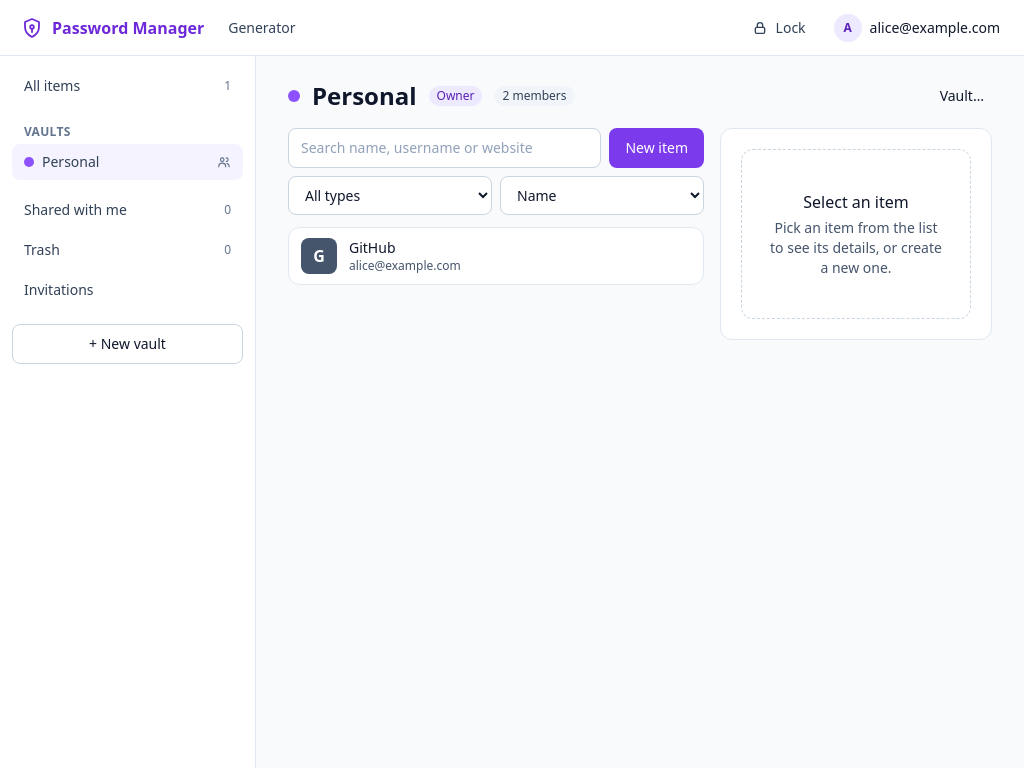
Test case: removing a member rotates the vault key › runs delete, sync, prepare, chunks, finalize, commit and sync in that order
Expected: the heading "Personal" is shown, top-left (312, 80), bottom-right (416, 112)
Click the button with aria-label "Vault menu" at coordinates (962, 96), box top-left (932, 80), bottom-right (992, 112)
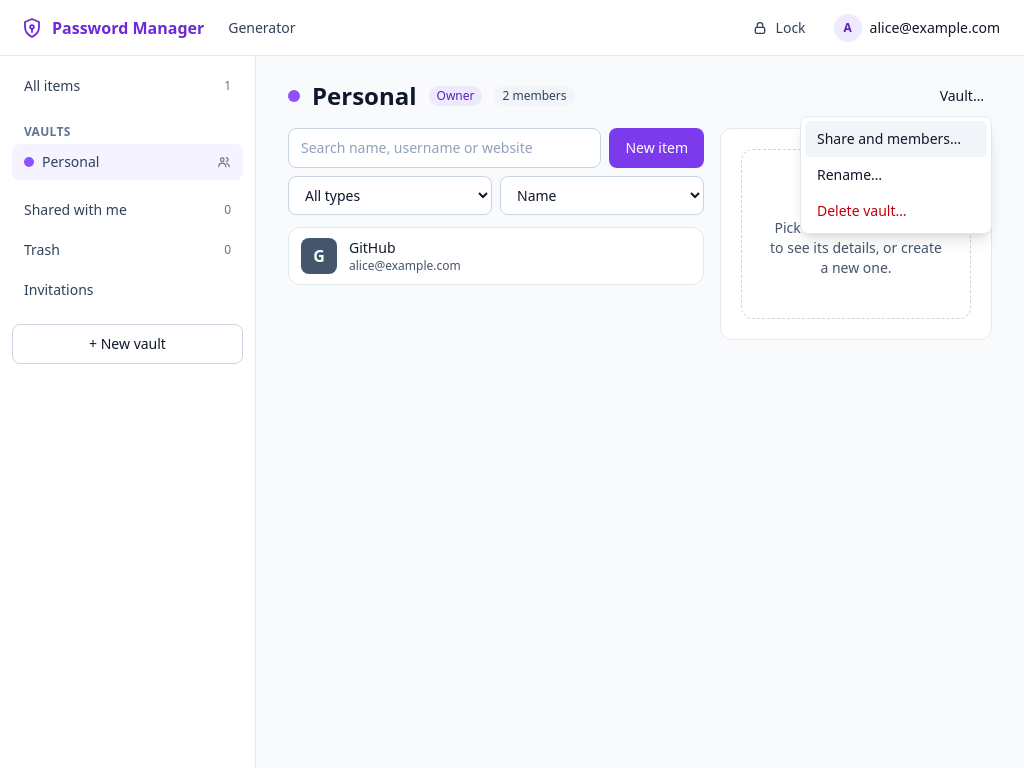
Click the menu item "Share and members…" at coordinates (896, 139), box top-left (805, 121), bottom-right (987, 157)
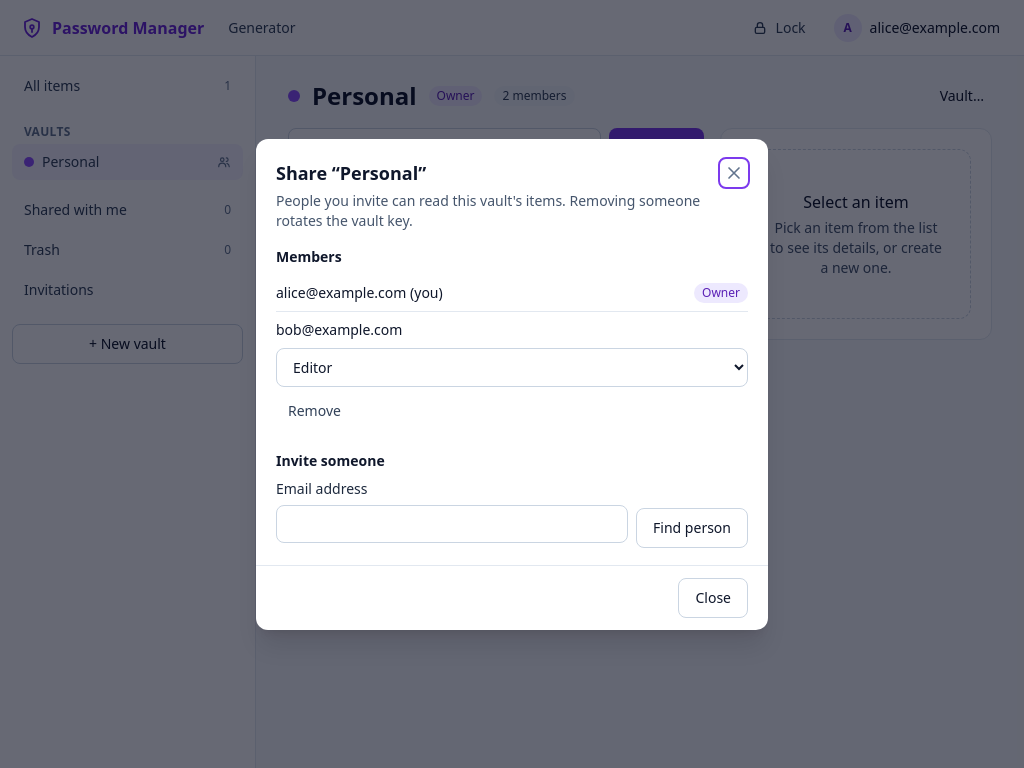
Click the button with aria-label "Remove bob@example.com" at coordinates (314, 410), box top-left (276, 394), bottom-right (353, 426)
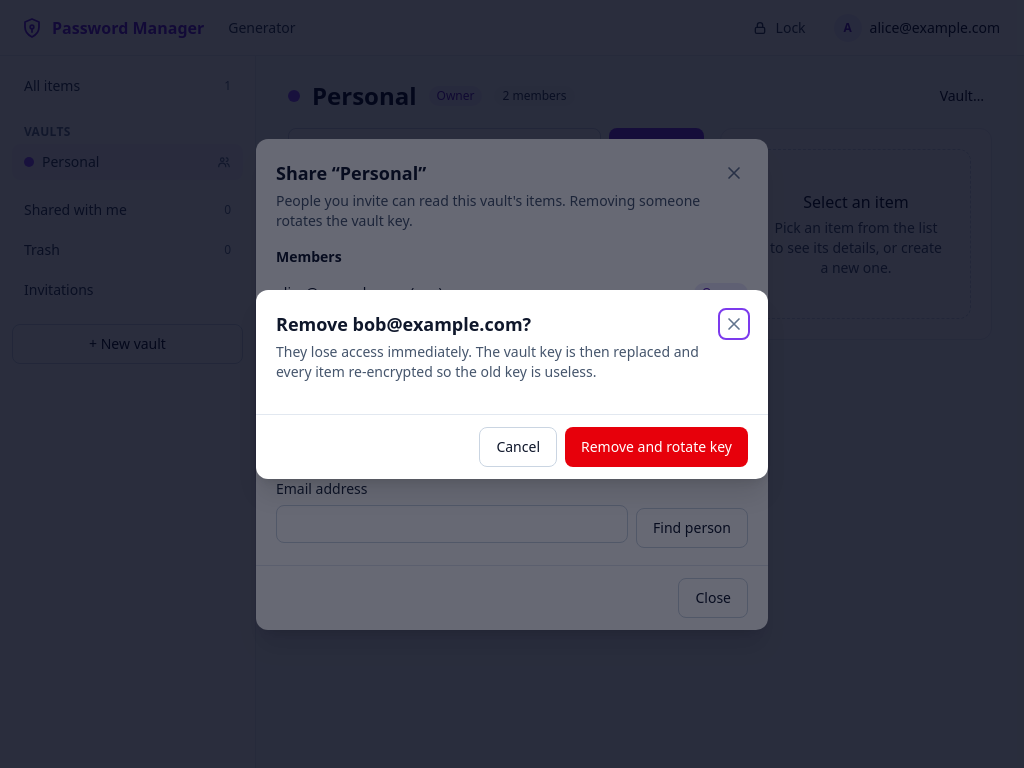
Click the button "Remove and rotate key" at coordinates (656, 446), box top-left (565, 426), bottom-right (748, 466)
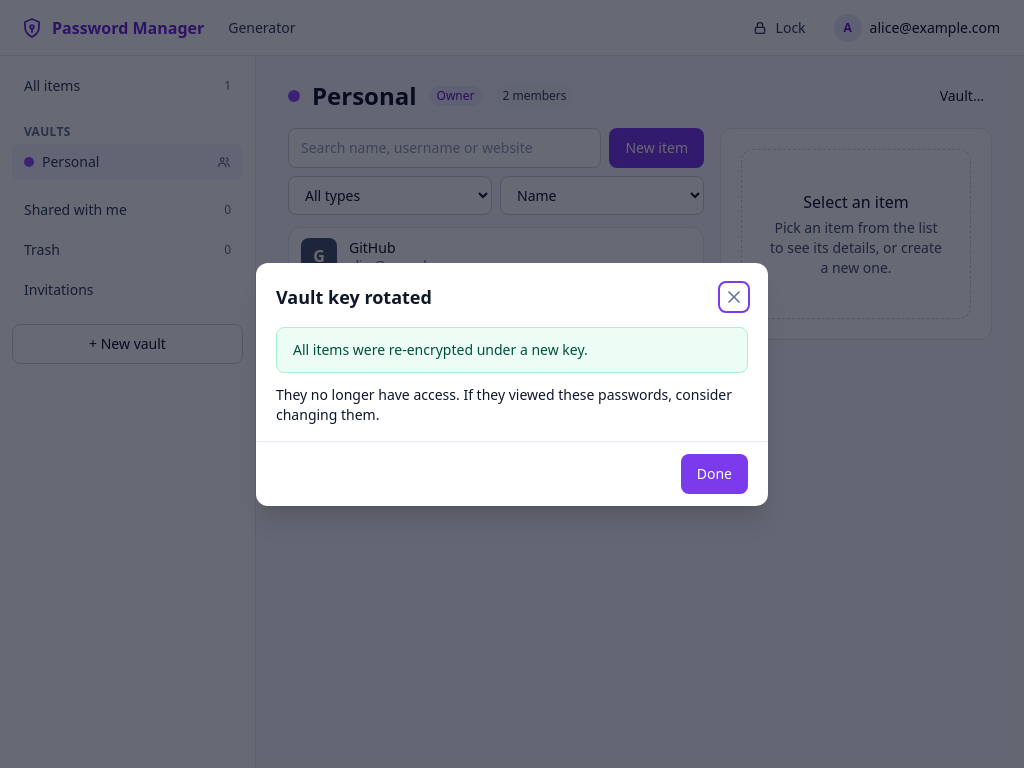
Now the heading "Vault key rotated" is shown, box top-left (276, 282), bottom-right (432, 310)
Now the text "They no longer have access" is shown, box top-left (276, 384), bottom-right (732, 424)
